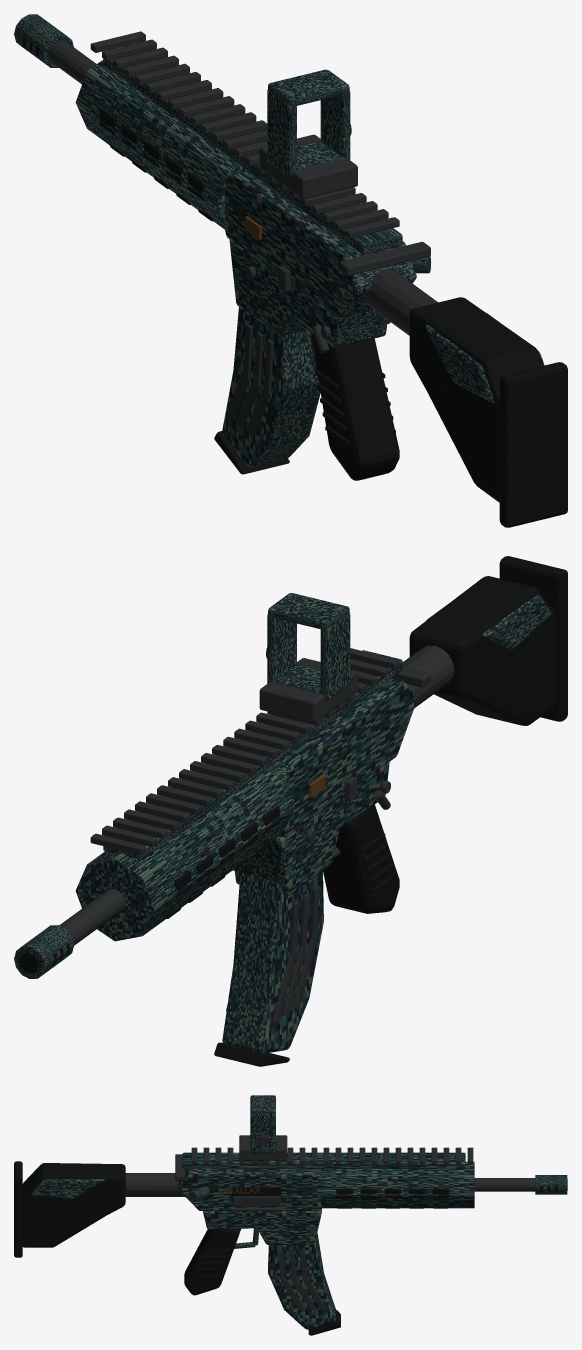
File: rifle-web.glb
3 renders of one model, top to bottom at view 1: azimuth 30°, elevation 25°; view 2: azimuth 150°, elevation 25°; view 3: azimuth 270°, elevation 25°, orthographic. The views are drawn at different scales.
Size of the model in its own units: 0.4051 by 1.57 by 3.46.
1 material, 1 textured.
